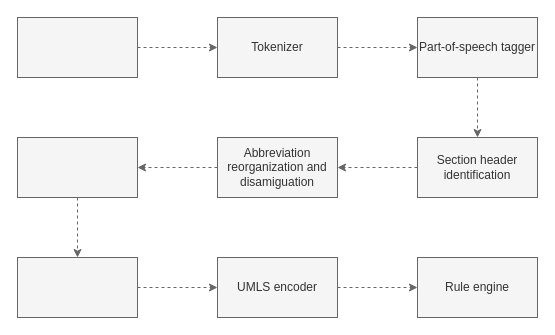
The diagram is 555 pixels wide and 335 high, and some of its shapes have lost their labels. Here are the shapes that lost their labels. From the top down, the centre of each, then its label:
At (x=77, y=47): "Sentence boundary detection".
At (x=77, y=167): "Named entity recognizer".
At (x=77, y=287): "Assertion and negation".
